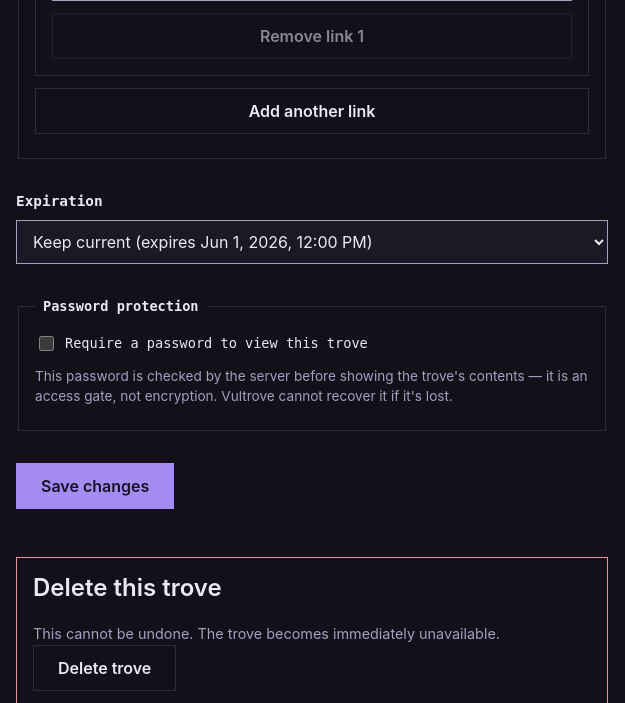
Test: password protection › blocks submission with a validation error when newly enabling protection with no password entered
(page scrolled)
Click the checkbox labelled "Require a password to view this trove".
click(46, 343)  # box [39,336,54,350]
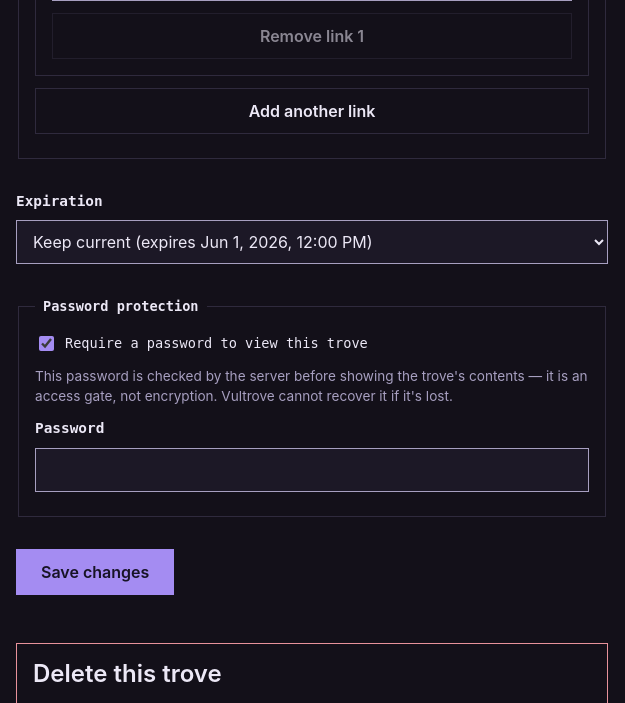
Click the button "Save changes".
click(95, 572)  # box [16,549,174,595]
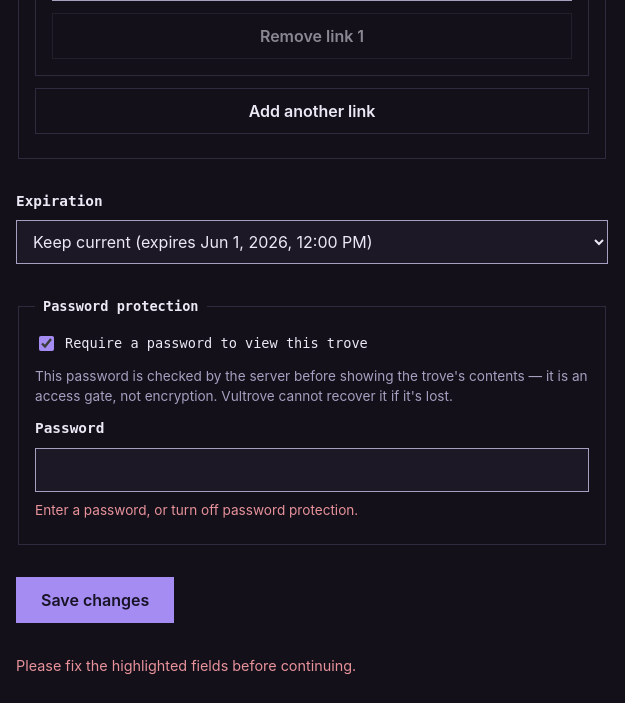
Result: the text "Enter a password, or turn off password protection." is shown at [35,502,358,518]
